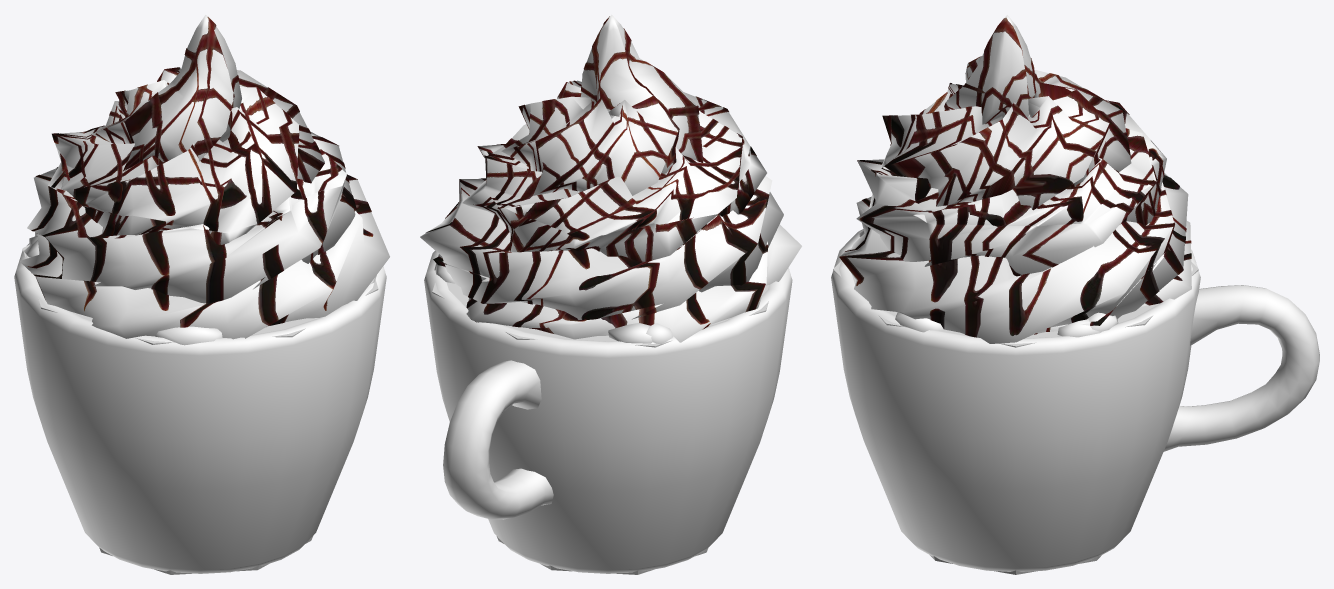
The model's file is CupEspresso.fbx.
The picture shows the model from 3 angles, left to right: view 1: azimuth 30°, elevation 25°; view 2: azimuth 150°, elevation 25°; view 3: azimuth 270°, elevation 25°; orthographic projection.
Parts seen in each view (by area): view 1: Cup Espresso, CupEspresso_Cream, CupEspresso_CreamTop, CupEspresso_Col; view 2: Cup Espresso, CupEspresso_Cream, CupEspresso_CreamTop, CupEspresso_Col; view 3: Cup Espresso, CupEspresso_Cream, CupEspresso_CreamTop, CupEspresso_Col.
Boxes of the visible parts, bbox=[...] form: Cup Espresso: bbox=[14, 232, 386, 573]; CupEspresso_Cream: bbox=[19, 15, 389, 345]; CupEspresso_CreamTop: bbox=[27, 17, 373, 327]; CupEspresso_Col: bbox=[22, 244, 378, 574]; Cup Espresso: bbox=[424, 250, 792, 573]; CupEspresso_Cream: bbox=[420, 14, 801, 344]; CupEspresso_CreamTop: bbox=[426, 16, 769, 333]; CupEspresso_Col: bbox=[432, 229, 768, 574]; Cup Espresso: bbox=[831, 229, 1319, 571]; CupEspresso_Cream: bbox=[840, 15, 1191, 343]; CupEspresso_CreamTop: bbox=[839, 17, 1191, 337]; CupEspresso_Col: bbox=[833, 260, 1198, 574].
Bounding box in the file's own units: 0.0613 × 0.0789 × 0.0913.
